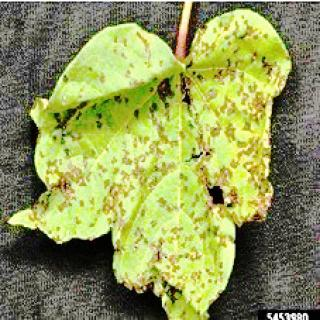blight: (40, 86, 268, 320)
